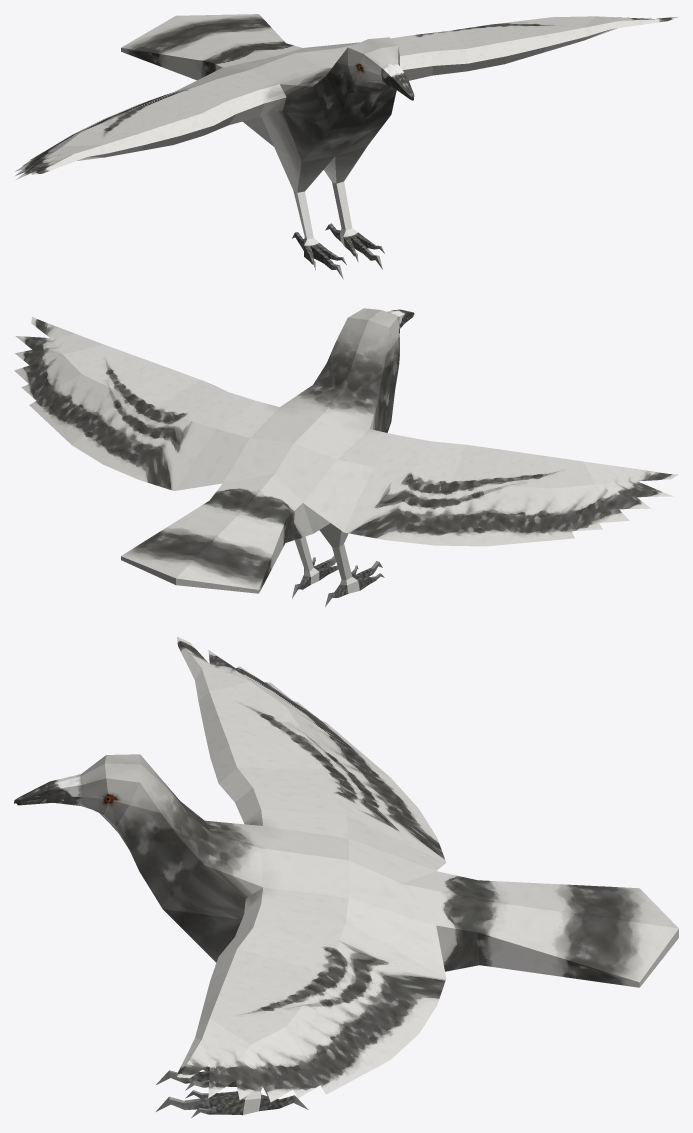
Rendered from Bird.fbx.
3 renders of one model, top to bottom at view 1: azimuth 30°, elevation 25°; view 2: azimuth 150°, elevation 25°; view 3: azimuth 270°, elevation 25°, orthographic. The views are drawn at different scales.
Visible parts, largest first — view 1: newBird Mesh; view 2: newBird Mesh; view 3: newBird Mesh.
Boxes of the visible parts, left/top/right/bottom form: newBird Mesh: left=15, top=14, right=678, bottom=279; newBird Mesh: left=14, top=308, right=678, bottom=606; newBird Mesh: left=14, top=636, right=678, bottom=1117.
Bounding box in the file's own units: 0.5004 × 0.1744 × 0.3133.
1 material, 1 textured.
